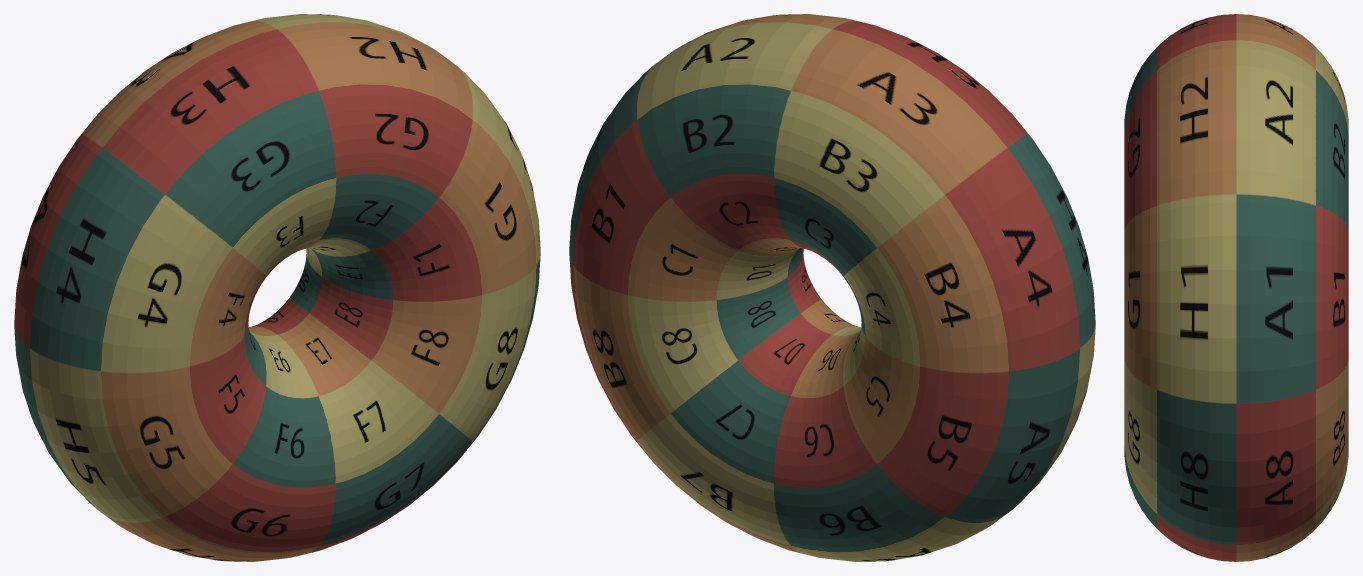
File: texture_torus_R2_r22.glb
3 renders of one model, left to right at view 1: azimuth 30°, elevation 25°; view 2: azimuth 150°, elevation 25°; view 3: azimuth 270°, elevation 25°, orthographic. The views are drawn at different scales.
Visible parts, largest first — view 1: world; view 2: world; view 3: world.
Part boxes in pixels (<box>): world: <box>14,14,540,561</box>; world: <box>569,14,1095,561</box>; world: <box>1124,14,1348,561</box>.
Bounding box in the file's own units: 19.2 × 19.16 × 7.85.
1 material, 1 textured.
